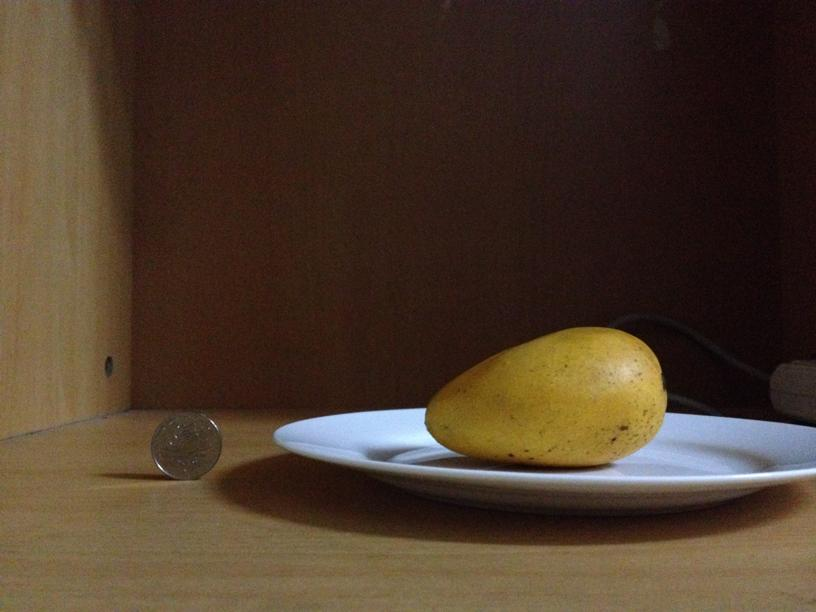coin: (151, 411, 222, 481)
mango: (425, 324, 667, 468)
